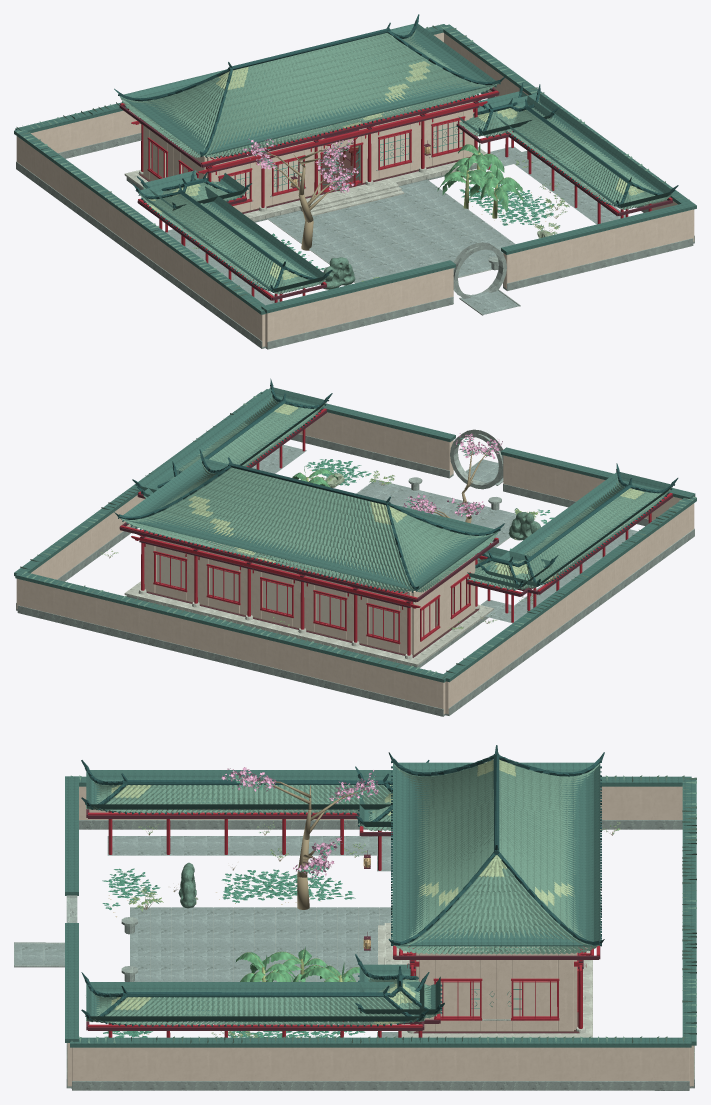
Rendered from reference-public_models_places-low_yihongyuan.glb.
The picture shows the model from 3 angles, top to bottom: view 1: azimuth 30°, elevation 25°; view 2: azimuth 150°, elevation 25°; view 3: azimuth 270°, elevation 25°; orthographic projection. The views are drawn at different scales.
Visible parts, largest first — view 1: r15_yihongyuan_Sunwen_r18_crimson_tile.001, r15_yihongyuan_Sunwen_r18_crimson_roof.001, r15_yihongyuan_Sunwen_r18_crimson_plaster.003, Mobile_yihongyuan_paving, r15_yihongyuan_Sunwen_r18_crimson_stone.001, r15_yihongyuan_Sunwen_r18_crimson_wood.001, r15_yihongyuan_Sunwen_r18_crimson_plaster.002, r15_yihongyuan_Sunwen_r18_crimson_tiledark.001, r15_yihongyuan_Sunwen_r18_crimson_darkwood.001, r15_yihongyuan_Sunwen_r18_crimson_cutstone.001, r15_yihongyuan_Sunwen_r18_crimson_screen.001, Mobile_yihongyuan_botanical_banana (+7 smaller); view 2: r15_yihongyuan_Sunwen_r18_crimson_tile.001, r15_yihongyuan_Sunwen_r18_crimson_plaster.003, r15_yihongyuan_Sunwen_r18_crimson_roof.001, r15_yihongyuan_Sunwen_r18_crimson_stone.001, r15_yihongyuan_Sunwen_r18_crimson_plaster.002, r15_yihongyuan_Sunwen_r18_crimson_wood.001, Mobile_yihongyuan_paving, r15_yihongyuan_Sunwen_r18_crimson_tiledark.001, r15_yihongyuan_Sunwen_r18_crimson_screen.001, r15_yihongyuan_Sunwen_r18_crimson_darkwood.001, r15_yihongyuan_Sunwen_r18_crimson_cutstone.001, r15_yihongyuan_Sunwen_r18_crimson_tilelight.001 (+4 smaller); view 3: r15_yihongyuan_Sunwen_r18_crimson_roof.001, r15_yihongyuan_Sunwen_r18_crimson_tile.001, r15_yihongyuan_Sunwen_r18_crimson_plaster.003, Mobile_yihongyuan_paving, r15_yihongyuan_Sunwen_r18_crimson_stone.001, r15_yihongyuan_Sunwen_r18_crimson_tiledark.001, r15_yihongyuan_Sunwen_r18_crimson_plaster.002, r15_yihongyuan_Sunwen_r18_crimson_wood.001, Mobile_yihongyuan_botanical_bamboo, r15_yihongyuan_Sunwen_r18_crimson_darkwood.001, r15_yihongyuan_Sunwen_r18_crimson_tilelight.001, r15_yihongyuan_Sunwen_r18_crimson_cutstone.001 (+6 smaller).
Part boxes in pixels (x1=…): r15_yihongyuan_Sunwen_r18_crimson_tile.001: x1=16, y1=25, x2=689, y2=310; r15_yihongyuan_Sunwen_r18_crimson_roof.001: x1=14, y1=24, x2=696, y2=314; r15_yihongyuan_Sunwen_r18_crimson_plaster.003: x1=16, y1=32, x2=694, y2=347; Mobile_yihongyuan_paving: x1=164, y1=146, x2=625, y2=314; r15_yihongyuan_Sunwen_r18_crimson_stone.001: x1=16, y1=91, x2=694, y2=349; r15_yihongyuan_Sunwen_r18_crimson_wood.001: x1=120, y1=90, x2=672, y2=302; r15_yihongyuan_Sunwen_r18_crimson_plaster.002: x1=143, y1=95, x2=474, y2=212; r15_yihongyuan_Sunwen_r18_crimson_tiledark.001: x1=114, y1=14, x2=678, y2=291; r15_yihongyuan_Sunwen_r18_crimson_darkwood.001: x1=119, y1=87, x2=672, y2=300; r15_yihongyuan_Sunwen_r18_crimson_cutstone.001: x1=124, y1=147, x2=486, y2=221; r15_yihongyuan_Sunwen_r18_crimson_screen.001: x1=166, y1=120, x2=462, y2=199; Mobile_yihongyuan_botanical_banana: x1=437, y1=141, x2=523, y2=211; r15_yihongyuan_Sunwen_r18_crimson_tile.001: x1=20, y1=390, x2=696, y2=678; r15_yihongyuan_Sunwen_r18_crimson_plaster.003: x1=16, y1=412, x2=694, y2=714; r15_yihongyuan_Sunwen_r18_crimson_roof.001: x1=14, y1=387, x2=696, y2=682; r15_yihongyuan_Sunwen_r18_crimson_stone.001: x1=16, y1=429, x2=694, y2=716; r15_yihongyuan_Sunwen_r18_crimson_plaster.002: x1=144, y1=530, x2=475, y2=654; r15_yihongyuan_Sunwen_r18_crimson_wood.001: x1=120, y1=408, x2=672, y2=655; Mobile_yihongyuan_paving: x1=252, y1=444, x2=637, y2=623; r15_yihongyuan_Sunwen_r18_crimson_tiledark.001: x1=114, y1=378, x2=678, y2=592; r15_yihongyuan_Sunwen_r18_crimson_screen.001: x1=156, y1=555, x2=452, y2=640; r15_yihongyuan_Sunwen_r18_crimson_darkwood.001: x1=119, y1=409, x2=672, y2=657; r15_yihongyuan_Sunwen_r18_crimson_cutstone.001: x1=124, y1=581, x2=493, y2=666; r15_yihongyuan_Sunwen_r18_crimson_tilelight.001: x1=188, y1=402, x2=644, y2=583; r15_yihongyuan_Sunwen_r18_crimson_roof.001: x1=65, y1=762, x2=696, y2=1047; r15_yihongyuan_Sunwen_r18_crimson_tile.001: x1=71, y1=762, x2=696, y2=1043; r15_yihongyuan_Sunwen_r18_crimson_plaster.003: x1=67, y1=786, x2=694, y2=1086; Mobile_yihongyuan_paving: x1=14, y1=836, x2=398, y2=1037; r15_yihongyuan_Sunwen_r18_crimson_stone.001: x1=14, y1=820, x2=694, y2=1090; r15_yihongyuan_Sunwen_r18_crimson_tiledark.001: x1=81, y1=745, x2=604, y2=1026; r15_yihongyuan_Sunwen_r18_crimson_plaster.002: x1=416, y1=948, x2=577, y2=1031; r15_yihongyuan_Sunwen_r18_crimson_wood.001: x1=88, y1=809, x2=599, y2=1037; Mobile_yihongyuan_botanical_bamboo: x1=102, y1=773, x2=376, y2=1037; r15_yihongyuan_Sunwen_r18_crimson_darkwood.001: x1=86, y1=809, x2=600, y2=1033; r15_yihongyuan_Sunwen_r18_crimson_tilelight.001: x1=111, y1=759, x2=574, y2=1025; r15_yihongyuan_Sunwen_r18_crimson_cutstone.001: x1=378, y1=923, x2=592, y2=1037.
Size of the model in its own units: 32.76 by 9.61 by 35.38.
Materials: 34 (28 with a texture image).
